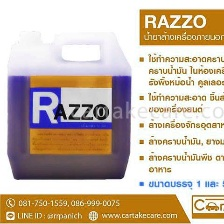cleaning_solution: (3, 30, 133, 184)
